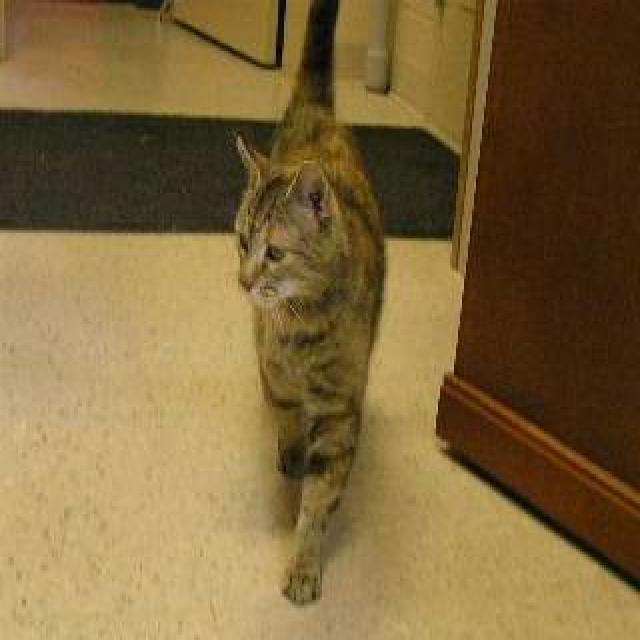cat: (228, 0, 386, 605)
